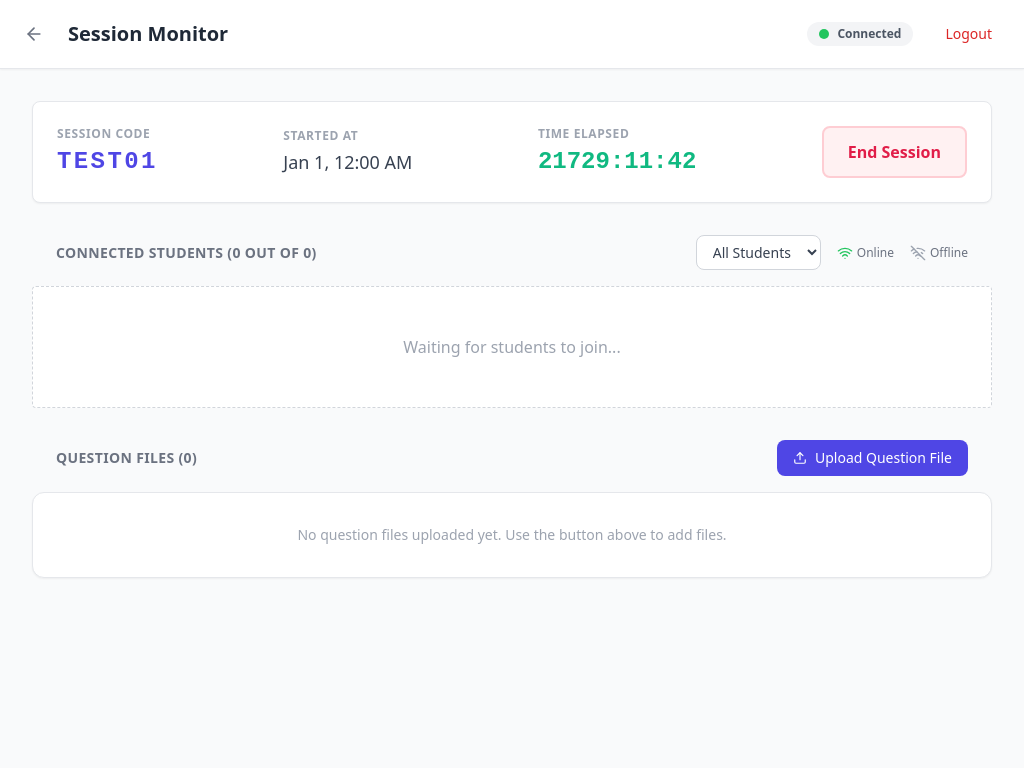
Test case: SessionDetail — Reliability & Security › Logout with Active Session Safeguard › should show warning modal when logging out during active session
The image size is (1024, 768).
Click the button "Logout".
click(969, 34)  # box [929,16,1008,52]
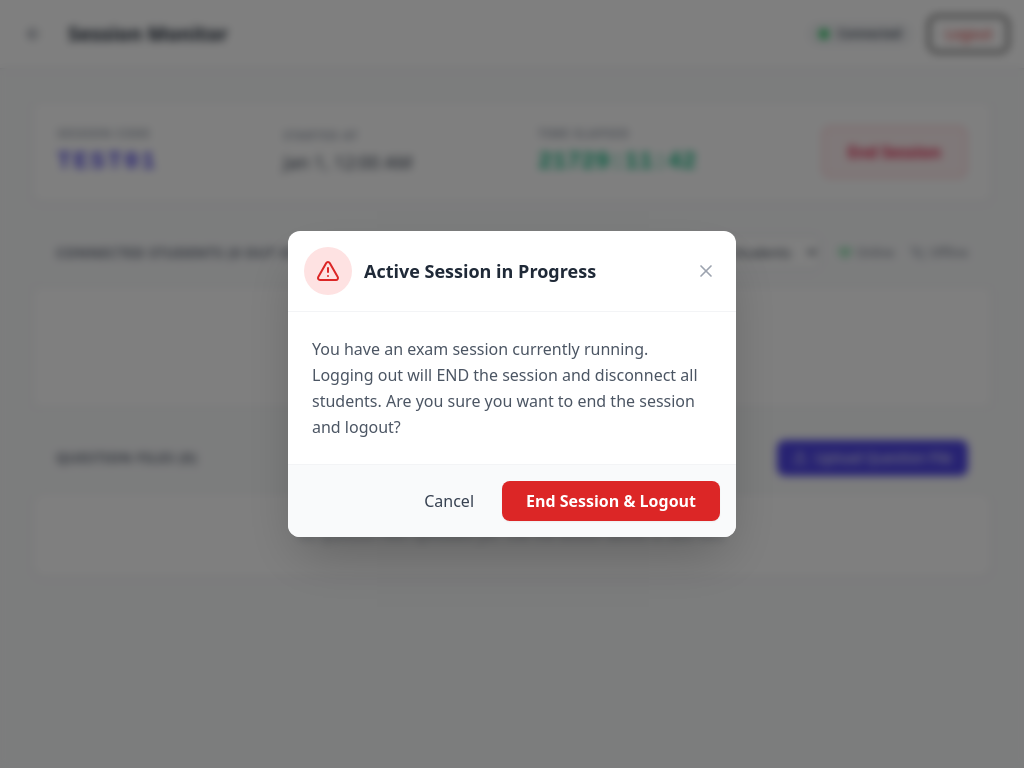
Expected: the text "Active Session in Progress" is shown, [364,259,596,283]
